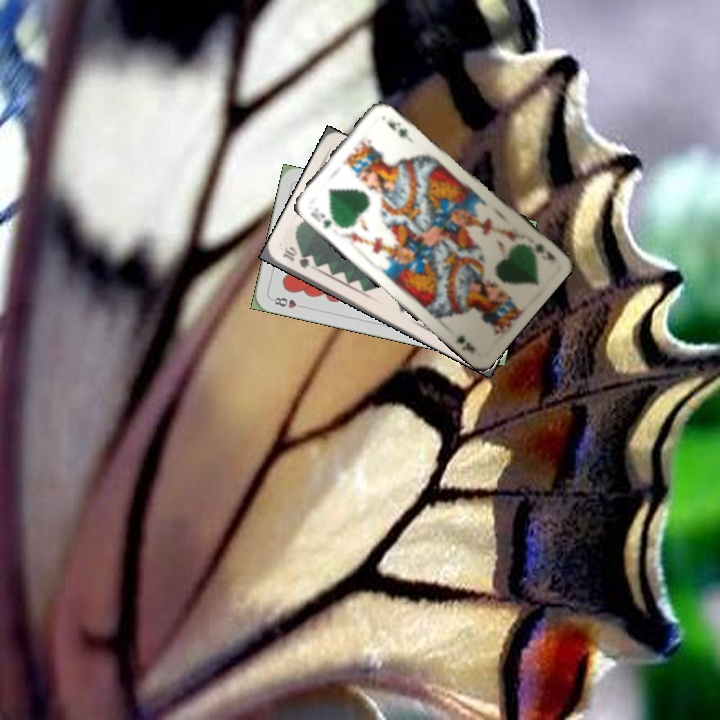G10: (279, 244, 312, 271)
GK: (523, 239, 559, 263), (306, 203, 334, 231)
H8: (268, 293, 308, 311)
